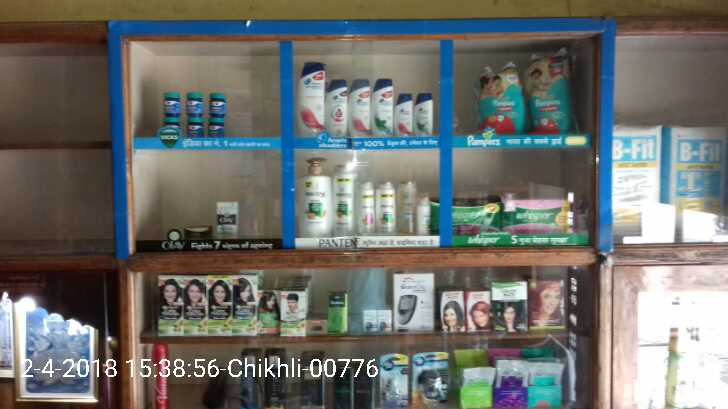vicks: (187, 89, 203, 115), (209, 91, 226, 114), (161, 92, 180, 112), (209, 114, 224, 138), (187, 115, 201, 136), (164, 119, 179, 132)
